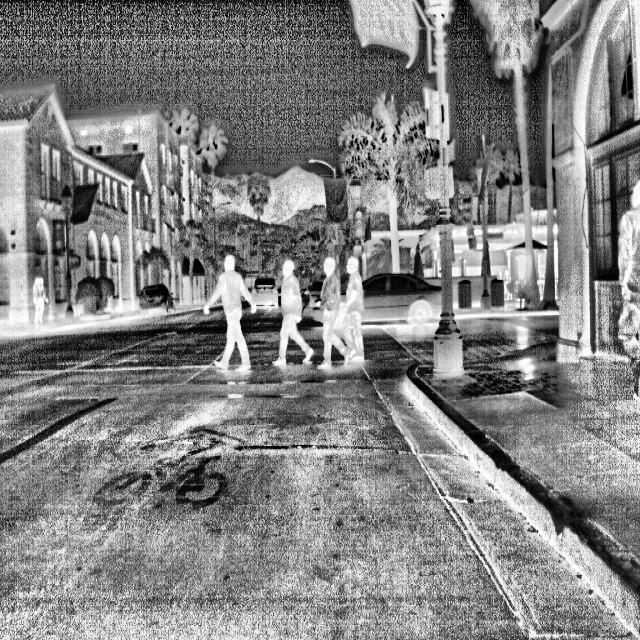car: (371, 255, 442, 356), (134, 275, 187, 326), (251, 270, 282, 315)
person and bycle: (216, 255, 258, 383), (308, 254, 349, 363), (276, 248, 312, 366), (339, 255, 374, 369), (29, 268, 50, 324)
